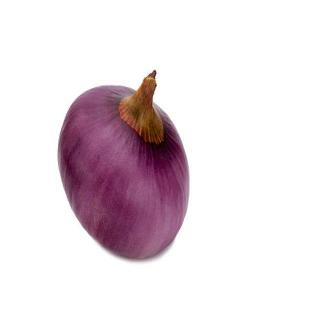Bawang Merah: (55, 69, 193, 262)
